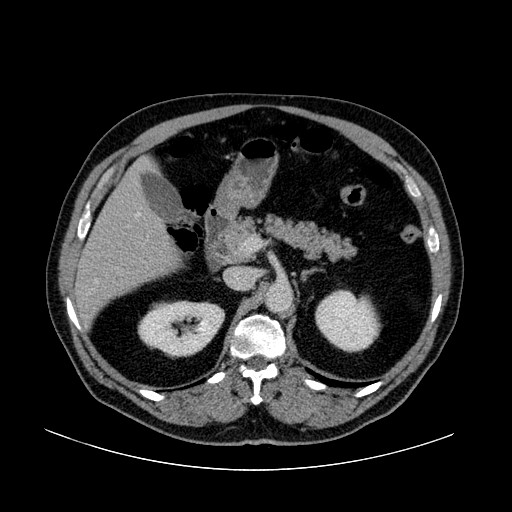vesicula: (137, 165, 197, 228)
